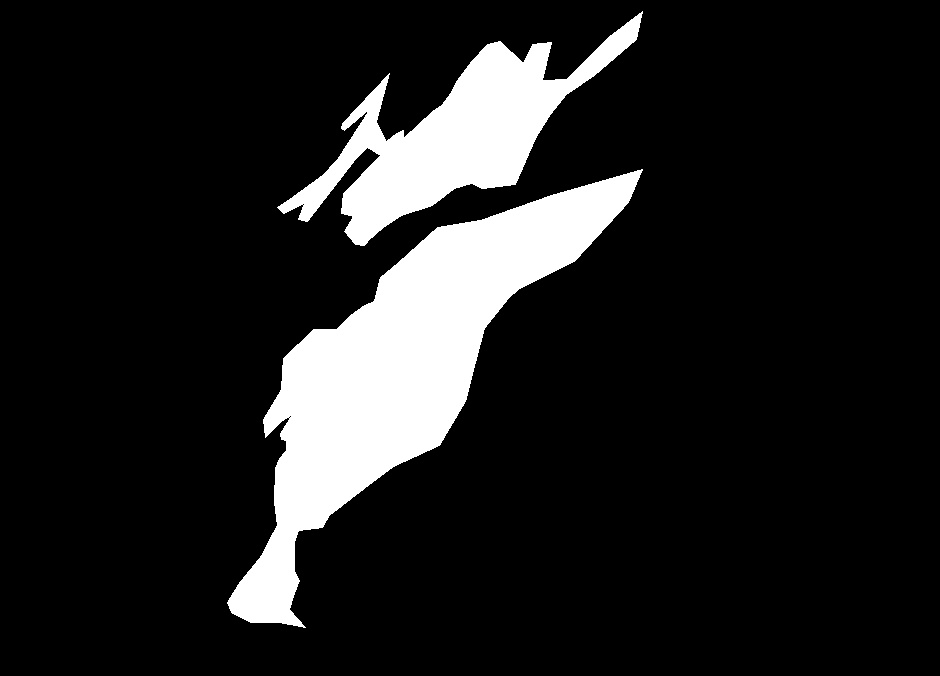Fire: (278, 48, 564, 237), (264, 271, 492, 425), (239, 427, 373, 628)
